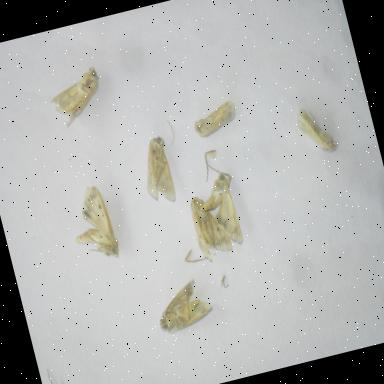abw: (60, 178, 124, 270), (188, 162, 252, 252), (41, 60, 112, 134), (146, 270, 220, 339), (182, 184, 240, 268), (128, 128, 185, 212), (288, 97, 342, 164), (187, 94, 244, 142)
